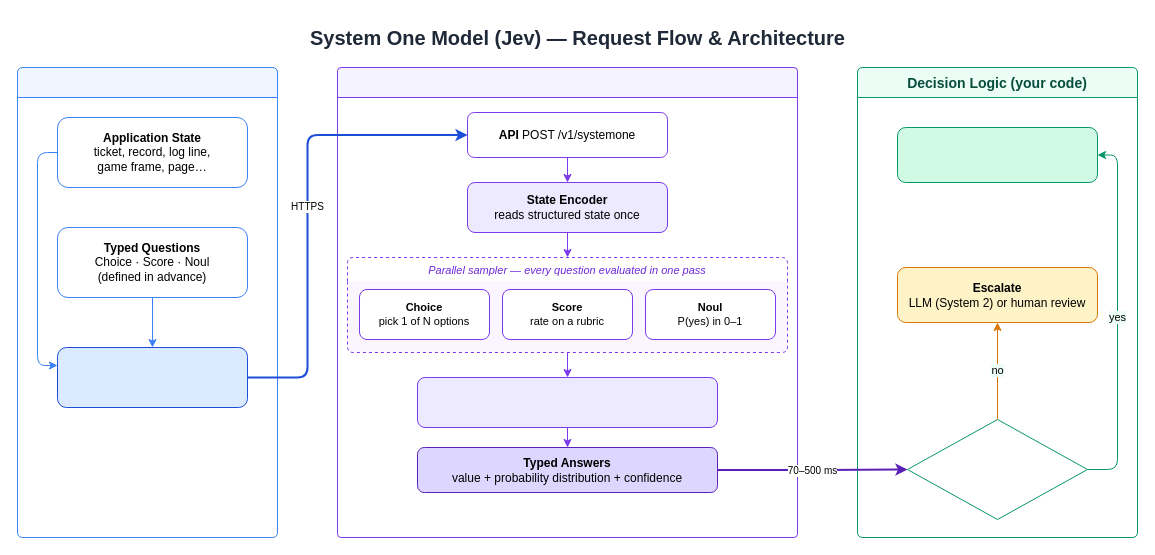
The diagram is 1155 pixels wide and 555 high, and some of its shapes have lost their labels. Here are the shapes that lost their labels. From the top down, the box of each, then its label:
(896, 126, 1098, 182): Act automatically branch · route · sort · filter
(16, 66, 278, 538): Your Application
(336, 66, 798, 538): TypeSafe Platform — Jev (System One Model)
(56, 346, 248, 408): TypeSafe SDK / REST one request: state + questions
(416, 376, 718, 428): Calibration (trained with RLCD) type-constrained outputs · honest probabilities
(906, 418, 1088, 520): confidence ≥ threshold?
